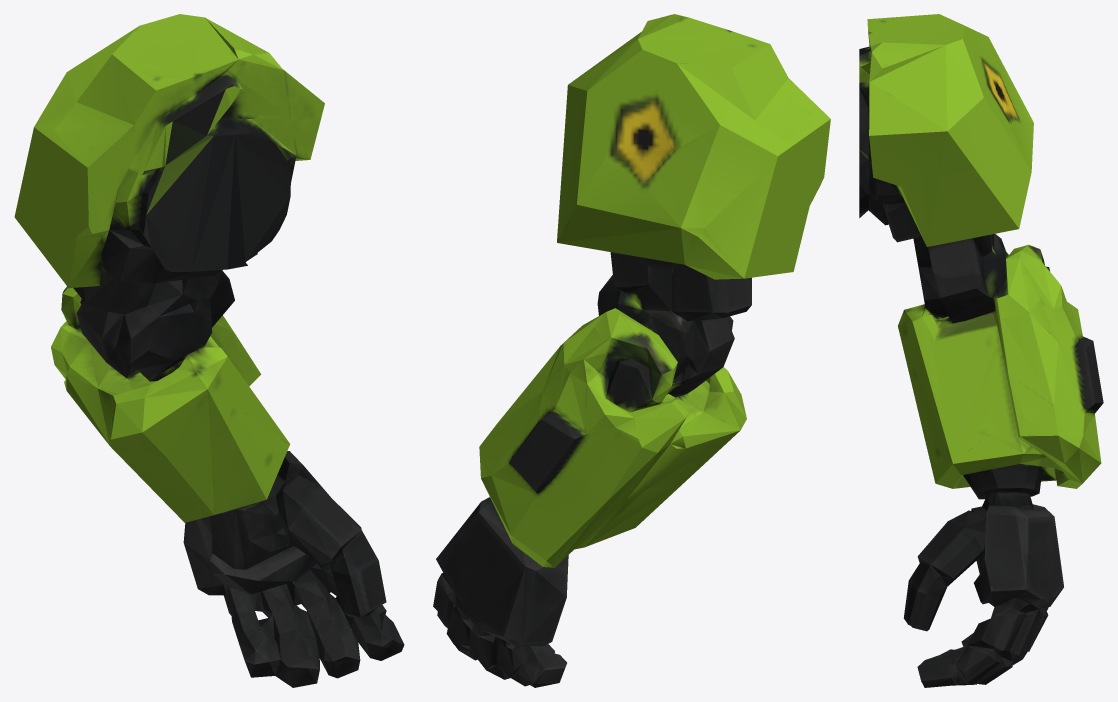
Rendered from SM_ShooterDebris_Arm_L.fbx.
The picture shows the model from 3 angles, left to right: view 1: azimuth 30°, elevation 25°; view 2: azimuth 150°, elevation 25°; view 3: azimuth 270°, elevation 25°; orthographic projection. The views are drawn at different scales.
Parts seen in each view (by area): view 1: SM_ShooterDebris_Arm_L; view 2: SM_ShooterDebris_Arm_L; view 3: SM_ShooterDebris_Arm_L.
Part boxes in pixels (<box>): SM_ShooterDebris_Arm_L: <box>14,14,404,687</box>; SM_ShooterDebris_Arm_L: <box>433,14,830,687</box>; SM_ShooterDebris_Arm_L: <box>859,14,1103,687</box>.
Size of the model in its own units: 50.14 by 94.21 by 35.39.
1 material, 1 textured.
